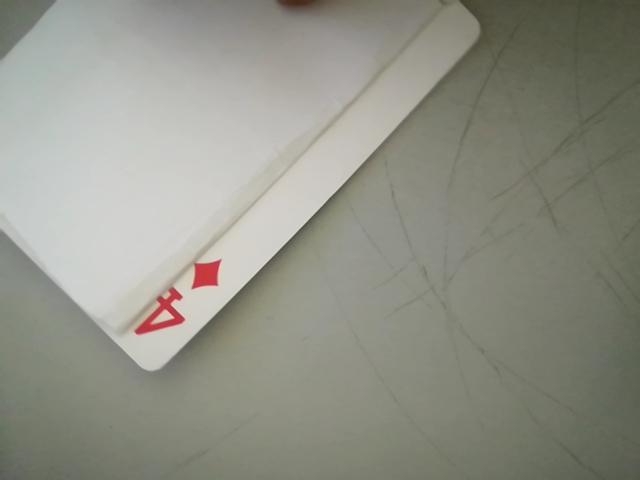fk 4: (119, 252, 235, 353)
